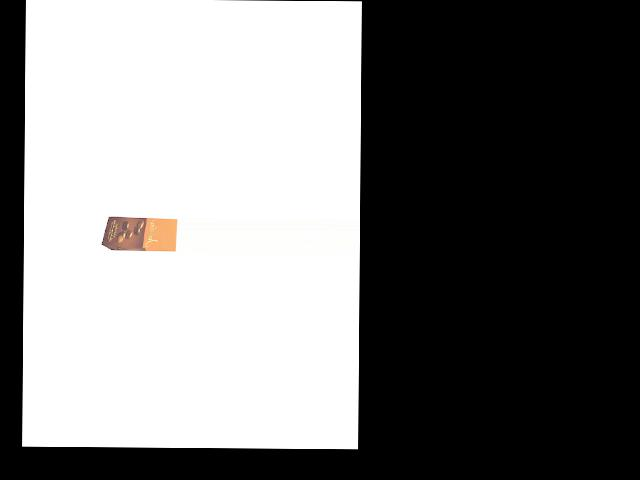chocolate: (102, 212, 176, 253)
